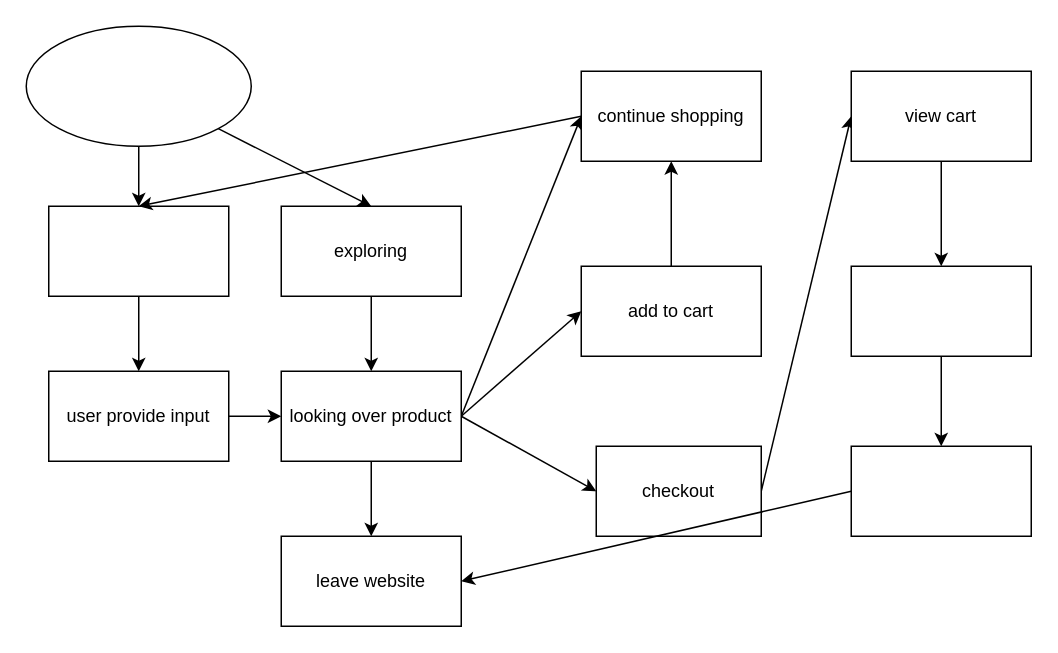
Some shapes in this 1058 by 653 pixel diagram are drawn without their labels. The centre of each missing label's shape, as x and y in pixels:
recieve order confirmation: (x=940, y=490)
searching: (x=138, y=250)
start: (x=138, y=85)
view payment: (x=940, y=310)
